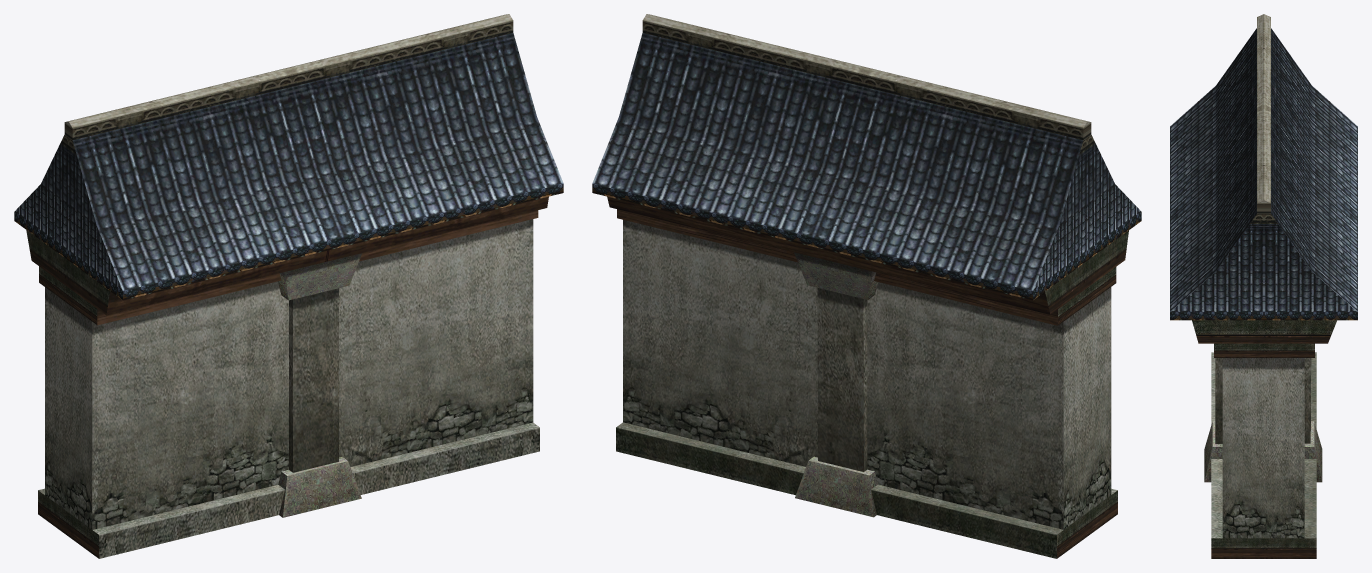
Rendered from a1-038-wall-lin_duel.fbx.
3 views of the same model, side by side, from view 1: azimuth 30°, elevation 25°; view 2: azimuth 150°, elevation 25°; view 3: azimuth 270°, elevation 25° (orthographic). The views are drawn at different scales.
Visible parts, largest first — view 1: a1-038-wall; view 2: a1-038-wall; view 3: a1-038-wall.
Part boxes in pixels (x1,y1,x2,y2): a1-038-wall: (14, 14, 563, 558); a1-038-wall: (592, 14, 1141, 558); a1-038-wall: (1170, 14, 1357, 558).
Size of the model in its own units: 5 by 4.5 by 2.13.
